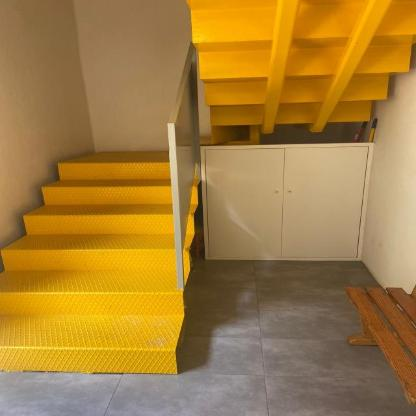stair: (0, 140, 191, 381)
